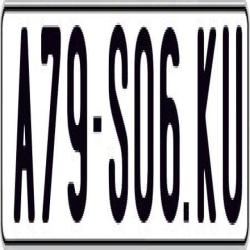0: (134, 25, 155, 234)
6: (160, 27, 181, 230)
7: (41, 20, 61, 225)
9: (67, 23, 89, 221)
A: (14, 20, 37, 225)
K: (196, 27, 216, 223)
S: (108, 23, 130, 227)
U: (223, 21, 241, 229)
